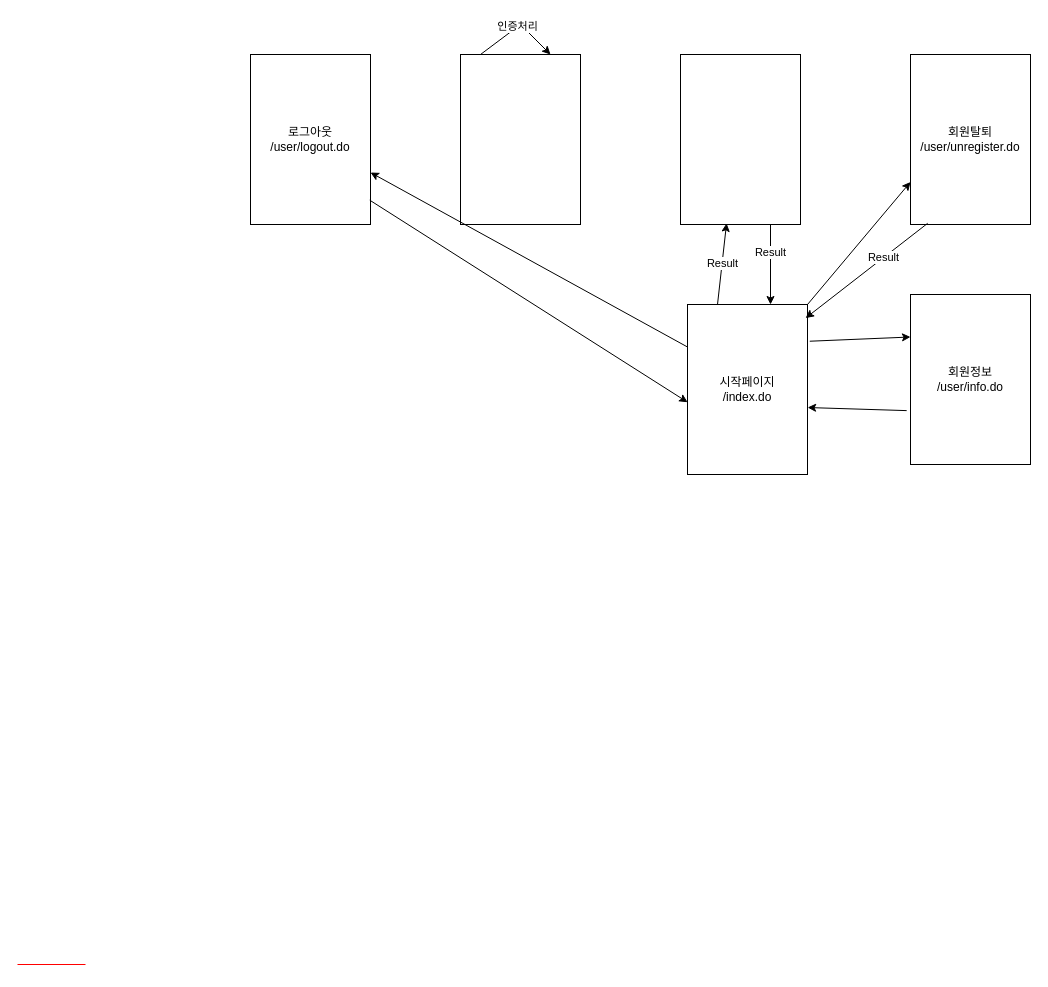
Some shapes in this 1048 by 987 pixel diagram are drawn without their labels. Each missing label, with the box of its shape:
로그인 /user/login.do: (460, 54, 580, 224)
회원가입 /user/register.do: (680, 54, 800, 224)
